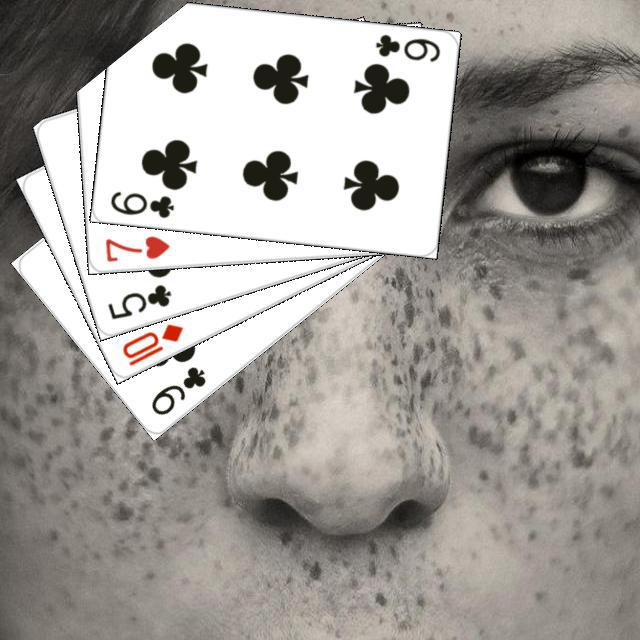10d: (117, 318, 185, 368)
5c: (102, 279, 173, 321)
6c: (370, 29, 442, 64), (105, 186, 176, 220)
7h: (100, 231, 171, 263)
9c: (146, 361, 208, 417)
